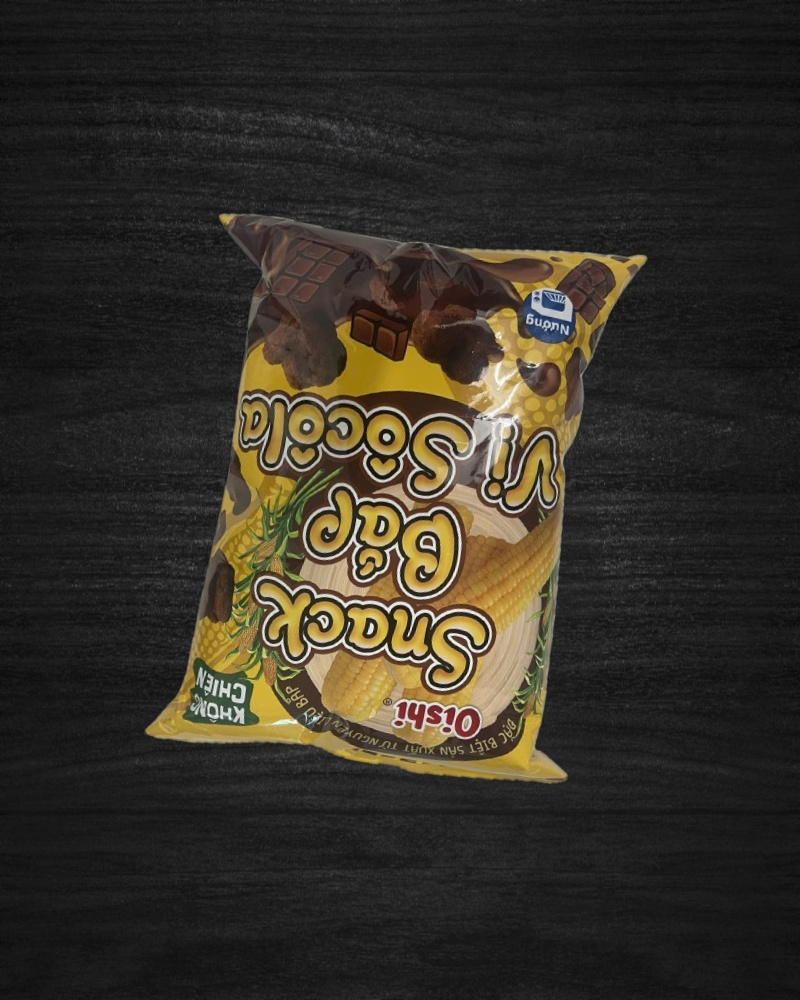Snack socola: (130, 185, 660, 809)
